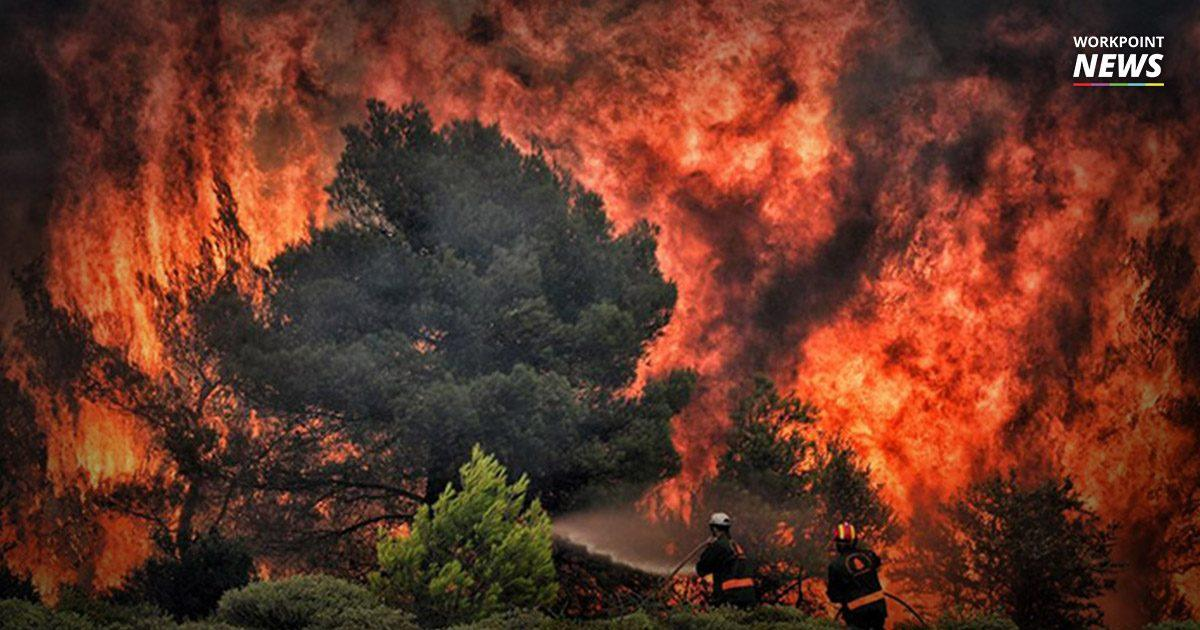fire: (132, 0, 1178, 619)
